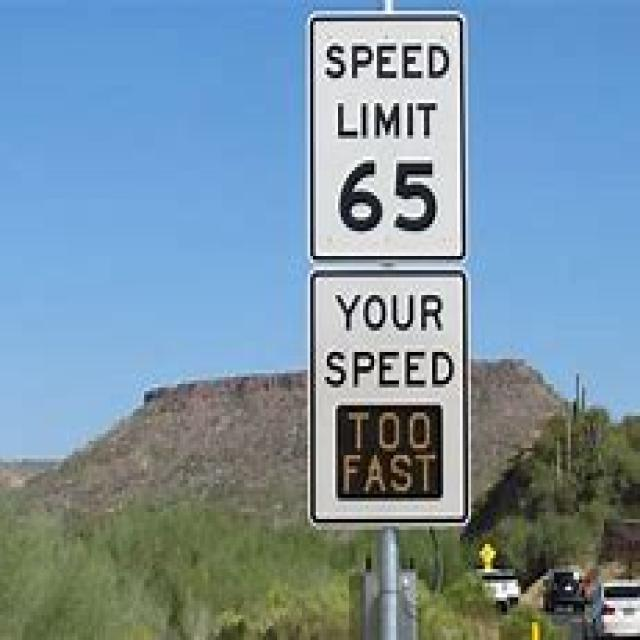speedLimit65: (309, 14, 461, 256)
